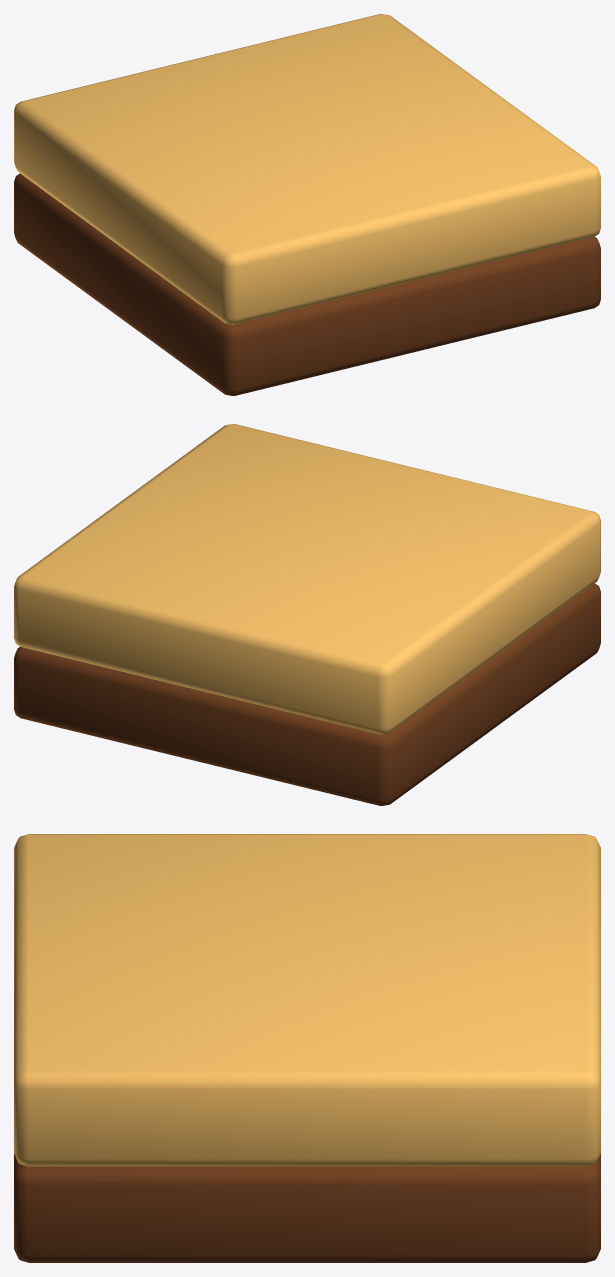
Rendered from ground_sand_001.glb.
3 renders of one model, top to bottom at view 1: azimuth 30°, elevation 25°; view 2: azimuth 150°, elevation 25°; view 3: azimuth 270°, elevation 25°, orthographic. The views are drawn at different scales.
Parts seen in each view (by area): view 1: ground_sand.001; view 2: ground_sand.001; view 3: ground_sand.001.
Boxes of the visible parts, bbox=[...] form: ground_sand.001: bbox=[14, 14, 600, 395]; ground_sand.001: bbox=[14, 424, 600, 805]; ground_sand.001: bbox=[14, 834, 600, 1262].
Size of the model in its own units: 8 by 2.89 by 8.
